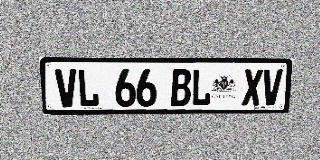6: (115, 69, 136, 107), (136, 69, 156, 107)
B: (171, 69, 191, 106)
L: (77, 69, 99, 107), (191, 69, 212, 106)
V: (55, 69, 78, 108), (261, 69, 283, 106)
X: (242, 69, 263, 106)
